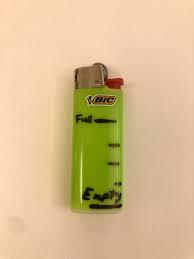lighter: (72, 62, 125, 218)
